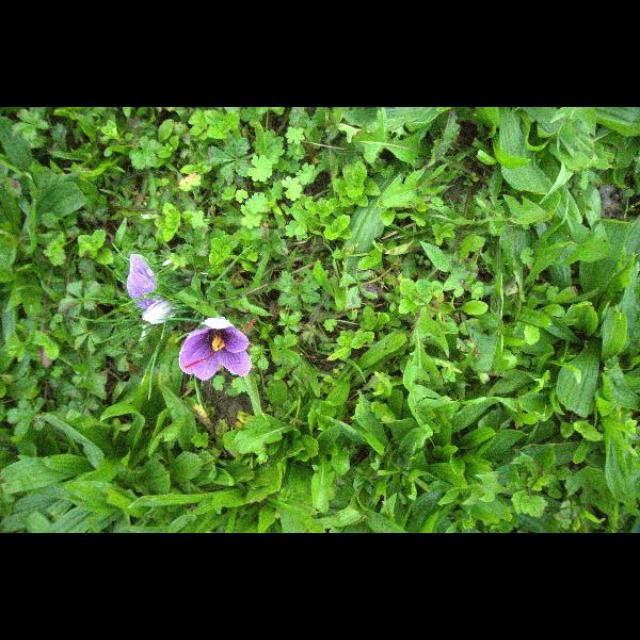flower: (179, 317, 253, 379)
